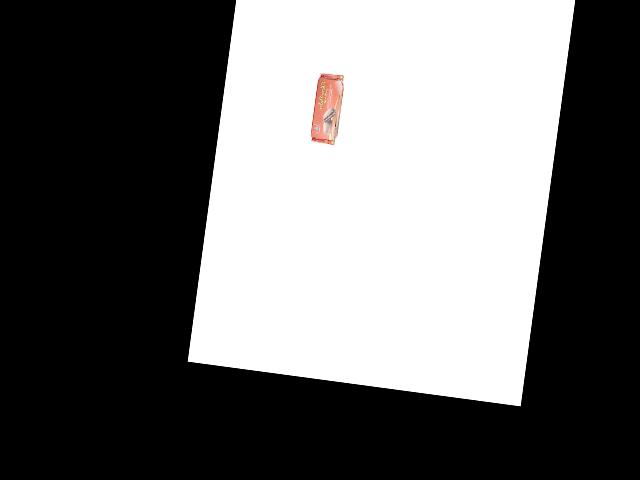chocolate: (309, 71, 351, 147)
